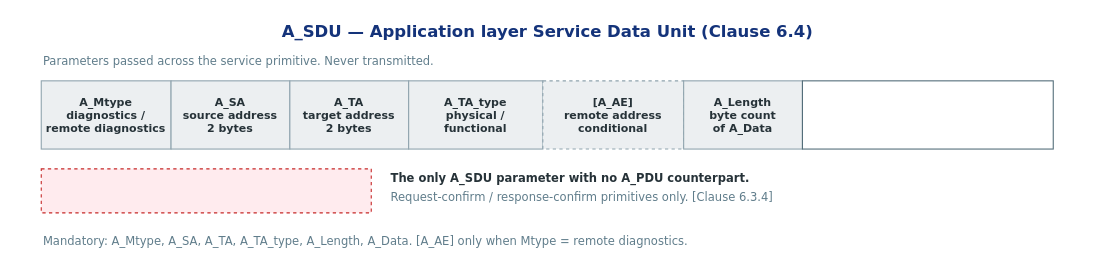
This 1093x268 diagram has some shape labels left out. The centre of each missing label's shape, as x and y in pixels:
"A_Data parameter 1 … parameter n" goes at (927,114).
"A_Result — ok / error" goes at (205,190).
